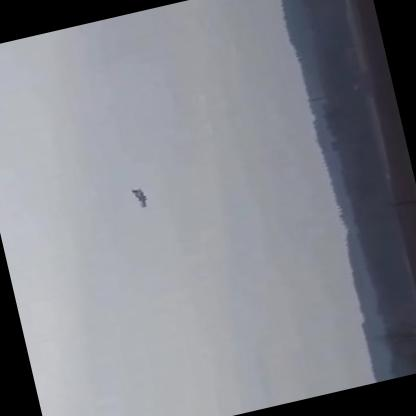plane: (133, 184, 151, 207)
